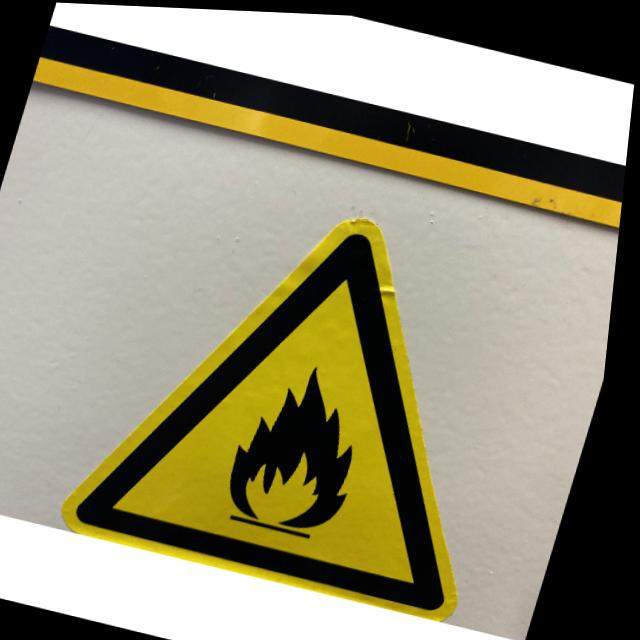fire hazard: (226, 349, 391, 542)
